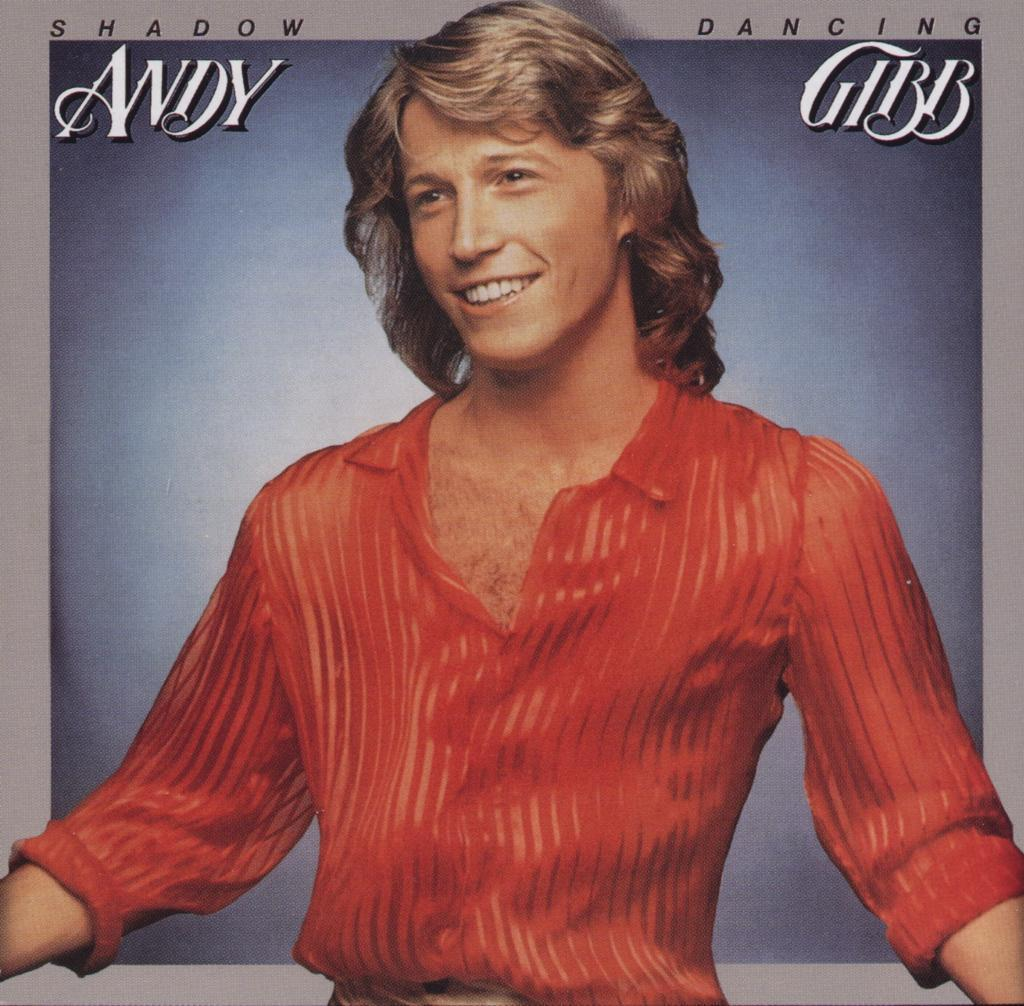face: (399, 95, 615, 363)
